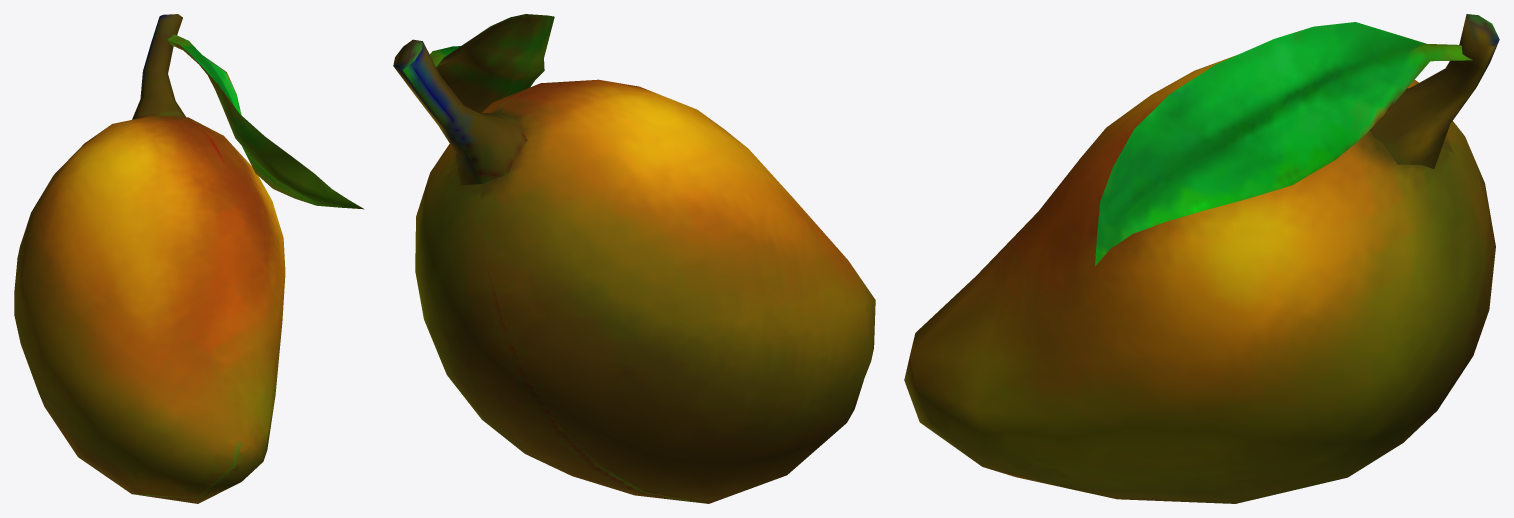
The model's file is mango.fbx.
3 views of the same model, side by side, from view 1: azimuth 30°, elevation 25°; view 2: azimuth 150°, elevation 25°; view 3: azimuth 270°, elevation 25° (orthographic). The views are drawn at different scales.
Parts seen in each view (by area): view 1: mango; view 2: mango; view 3: mango.
Part boxes in pixels (bbox=[...]): mango: bbox=[14, 14, 364, 503]; mango: bbox=[393, 14, 875, 503]; mango: bbox=[904, 14, 1499, 503].
Bounding box in the file's own units: 38.72 × 46.6 × 44.87.
